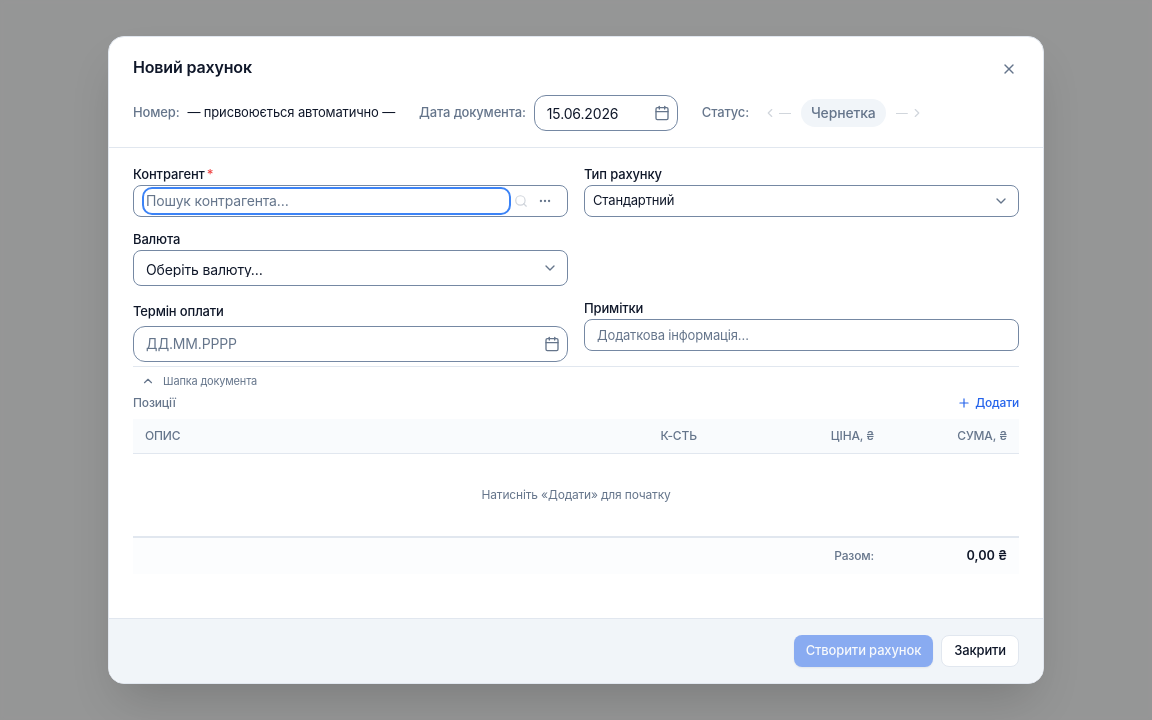
InvoiceCreateModal — regression › Invoice line через useFieldArray рендериться у таблиці після «Додати»
Click the button "Додати" at point(988, 403), box [957, 395, 1019, 411]
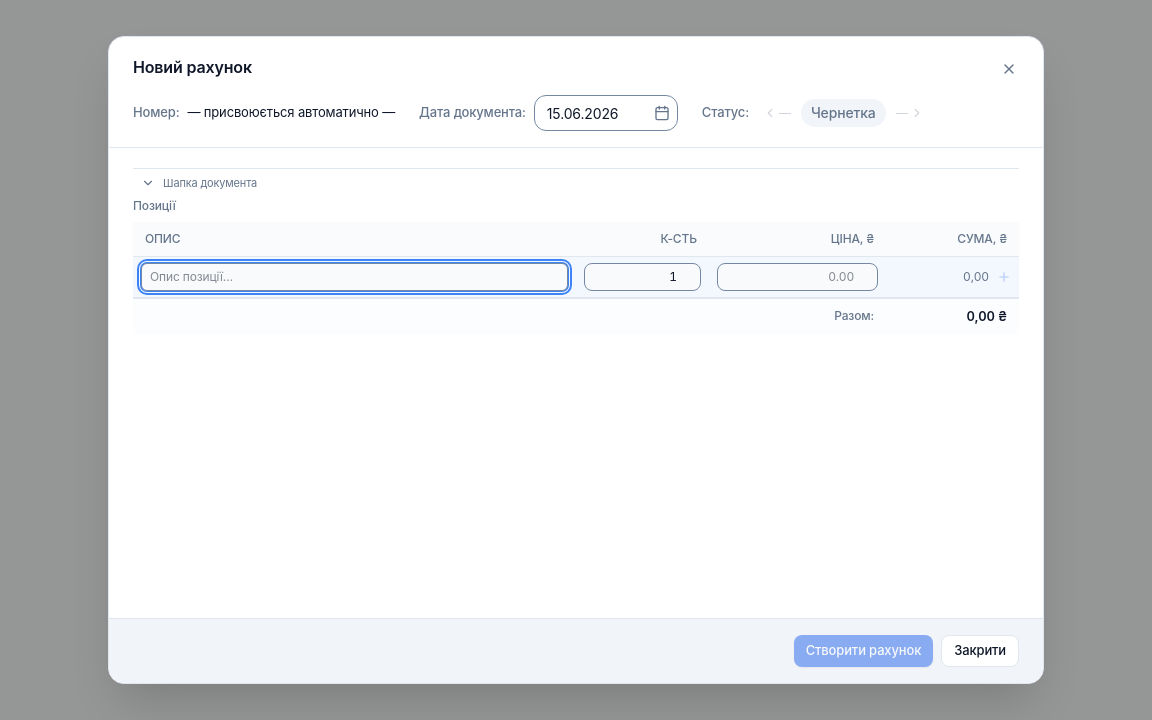
Type "Заміна масла" into the field with placeholder "Опис позиції…" at point(354, 276), box [141, 262, 568, 290]
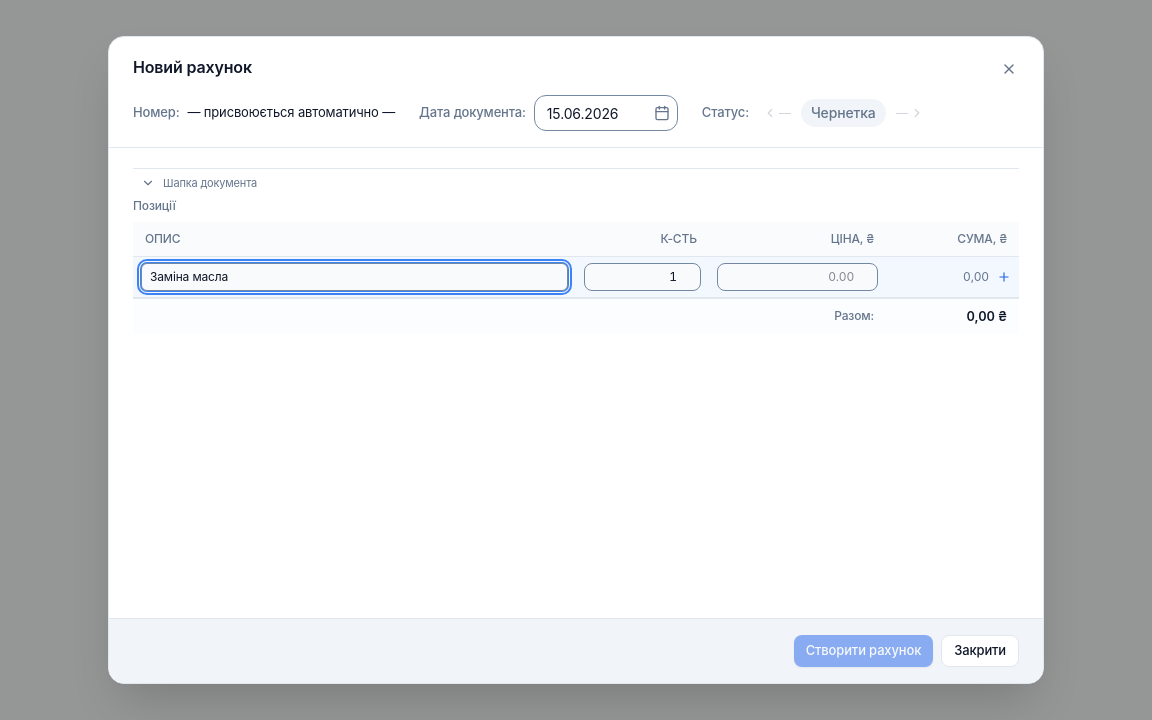
Click the 7th button at point(1004, 276), box [997, 270, 1011, 284]
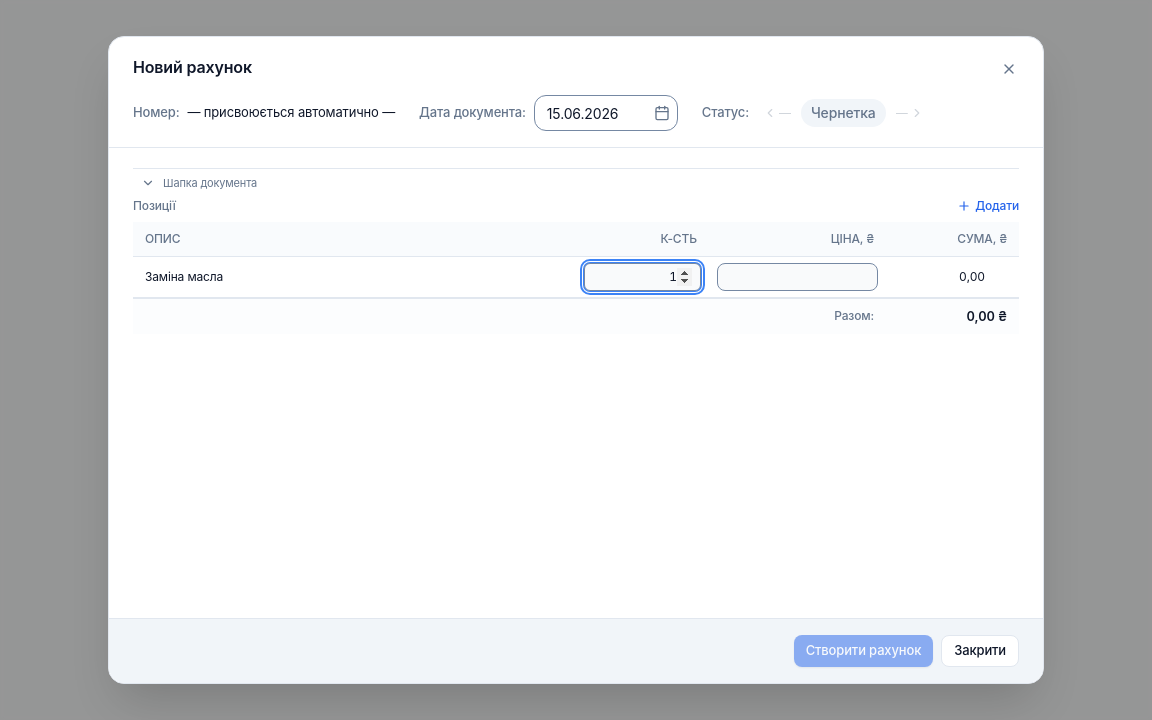
expect the text "Заміна масла" is shown: met, box [133, 256, 576, 298]
